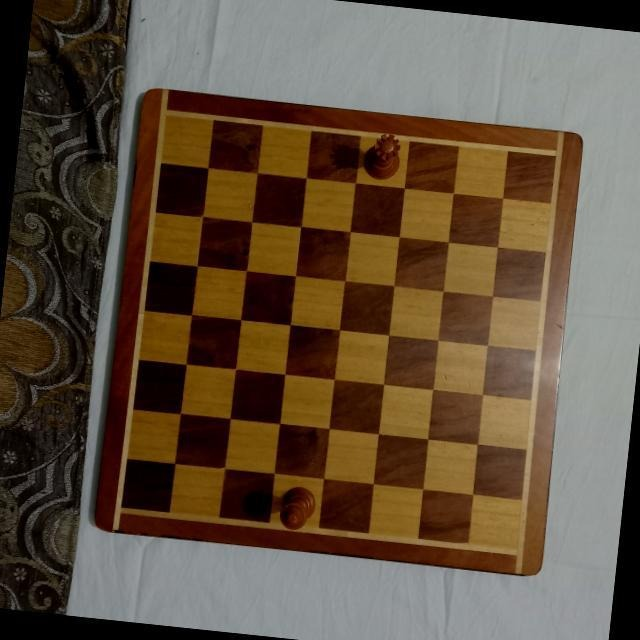white-king: (277, 484, 319, 532)
white-queen: (358, 131, 403, 183)
